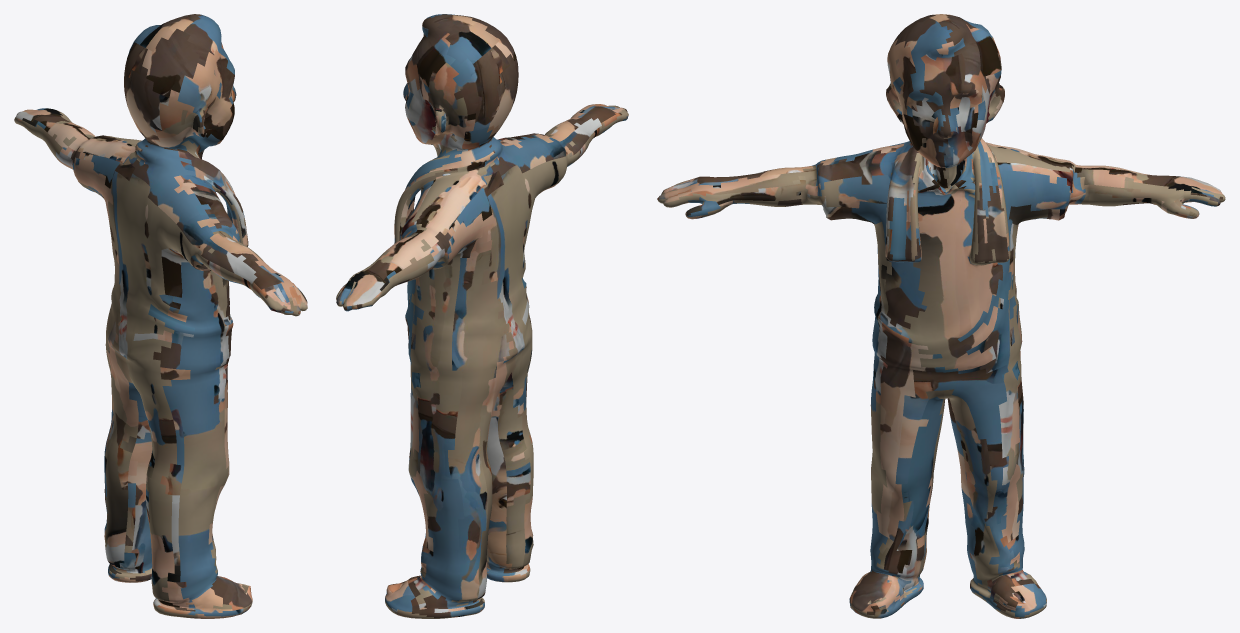
Rendered from ah_boon.fbx.
The picture shows the model from 3 angles, left to right: view 1: azimuth 30°, elevation 25°; view 2: azimuth 150°, elevation 25°; view 3: azimuth 270°, elevation 25°; orthographic projection. The views are drawn at different scales.
Parts seen in each view (by area): view 1: ah_boon; view 2: ah_boon; view 3: ah_boon.
Boxes of the visible parts, <box> form: ah_boon: <box>14,14,307,618</box>; ah_boon: <box>336,14,628,618</box>; ah_boon: <box>657,14,1225,618</box>.
Bounding box in the file's own units: 0.2127 × 0.9998 × 0.8797.
